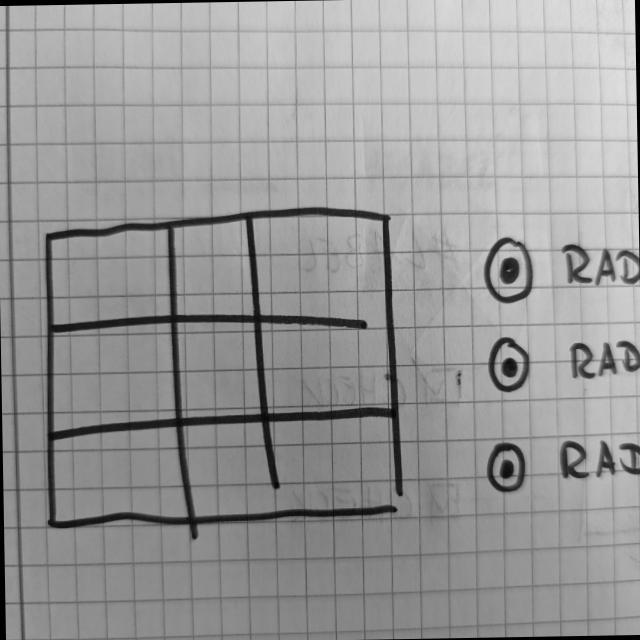radio: (483, 231, 542, 307), (486, 332, 536, 398), (484, 432, 532, 498)
table: (39, 202, 410, 534)
